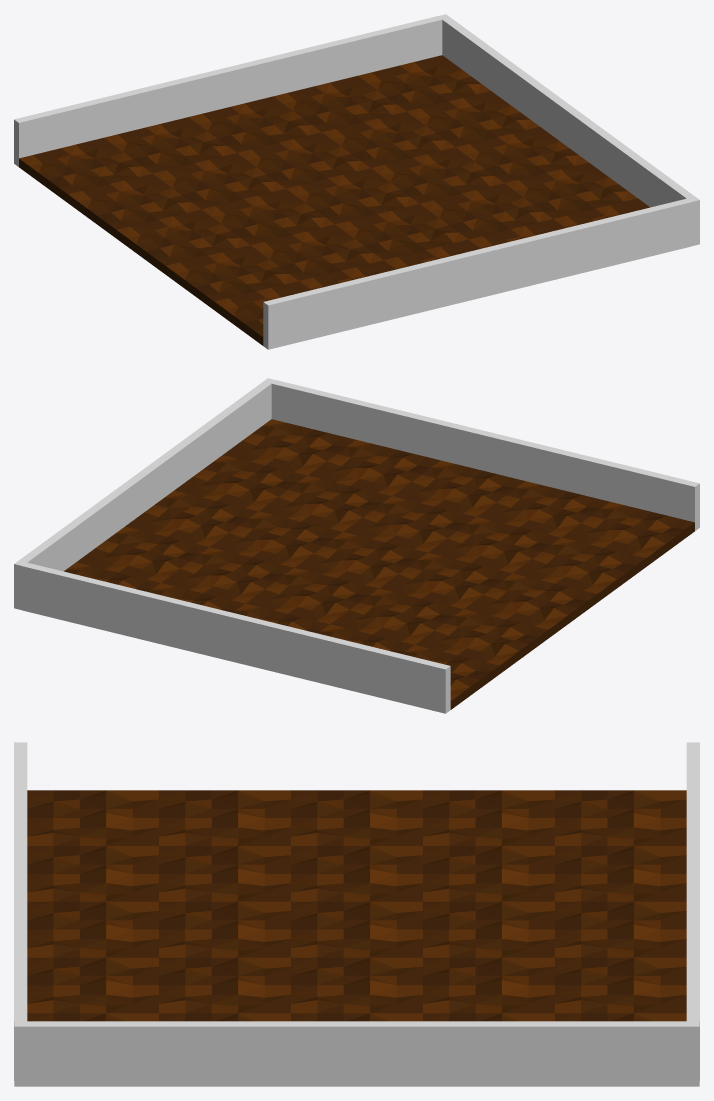
Rendered from Harvest_Room.dae.
3 renders of one model, top to bottom at view 1: azimuth 30°, elevation 25°; view 2: azimuth 150°, elevation 25°; view 3: azimuth 270°, elevation 25°, orthographic. The views are drawn at different scales.
Parts seen in each view (by area): view 1: Wall1, Wall2, Wall3, Dirt10, Dirt15, Dirt20, Dirt25, Dirt18, Dirt6, Dirt12, Dirt13, Dirt24 (+16 smaller); view 2: Wall2, Wall1, Wall3, Dirt10, Dirt15, Dirt20, Dirt5, Dirt8, Dirt4, Dirt3, Dirt16, Dirt12 (+16 smaller); view 3: Wall3, Dirt3, Dirt2, Dirt7, Dirt8, Dirt12, Dirt13, Dirt22, Dirt23, Dirt17, Dirt18, Dirt5 (+16 smaller).
Part boxes in pixels (x1=…): Wall1: x1=263, y1=198, x2=691, y2=349; Wall2: x1=14, y1=16, x2=442, y2=166; Wall3: x1=438, y1=14, x2=699, y2=245; Dirt10: x1=165, y1=245, x2=298, y2=309; Dirt15: x1=116, y1=209, x2=249, y2=274; Dirt20: x1=67, y1=173, x2=200, y2=238; Dirt25: x1=19, y1=138, x2=151, y2=202; Dirt18: x1=237, y1=132, x2=369, y2=188; Dirt6: x1=504, y1=162, x2=637, y2=218; Dirt12: x1=371, y1=147, x2=503, y2=203; Dirt13: x1=286, y1=168, x2=419, y2=224; Dirt24: x1=104, y1=117, x2=236, y2=173; Wall2: x1=22, y1=562, x2=450, y2=713; Wall1: x1=271, y1=380, x2=699, y2=530; Wall3: x1=14, y1=378, x2=275, y2=609; Dirt10: x1=513, y1=537, x2=646, y2=602; Dirt15: x1=464, y1=573, x2=597, y2=638; Dirt20: x1=415, y1=609, x2=548, y2=673; Dirt5: x1=562, y1=502, x2=694, y2=566; Dirt8: x1=344, y1=496, x2=476, y2=552; Dirt4: x1=477, y1=481, x2=609, y2=537; Dirt3: x1=392, y1=460, x2=525, y2=516; Dirt16: x1=76, y1=526, x2=209, y2=582; Dirt12: x1=210, y1=511, x2=342, y2=567; Wall3: x1=14, y1=1021, x2=699, y2=1086; Dirt3: x1=27, y1=901, x2=158, y2=957; Dirt2: x1=27, y1=957, x2=158, y2=1013; Dirt7: x1=159, y1=957, x2=290, y2=1013; Dirt8: x1=159, y1=901, x2=290, y2=957; Dirt12: x1=291, y1=957, x2=422, y2=1013; Dirt13: x1=291, y1=901, x2=422, y2=957; Dirt22: x1=555, y1=957, x2=686, y2=1013; Dirt23: x1=555, y1=901, x2=686, y2=957; Dirt17: x1=423, y1=957, x2=554, y2=1013; Dirt18: x1=423, y1=901, x2=554, y2=957; Dirt5: x1=27, y1=790, x2=158, y2=845.
Size of the model in its own units: 10.2 by 10.4 by 1.
Materials: 1 (1 with a texture image).
